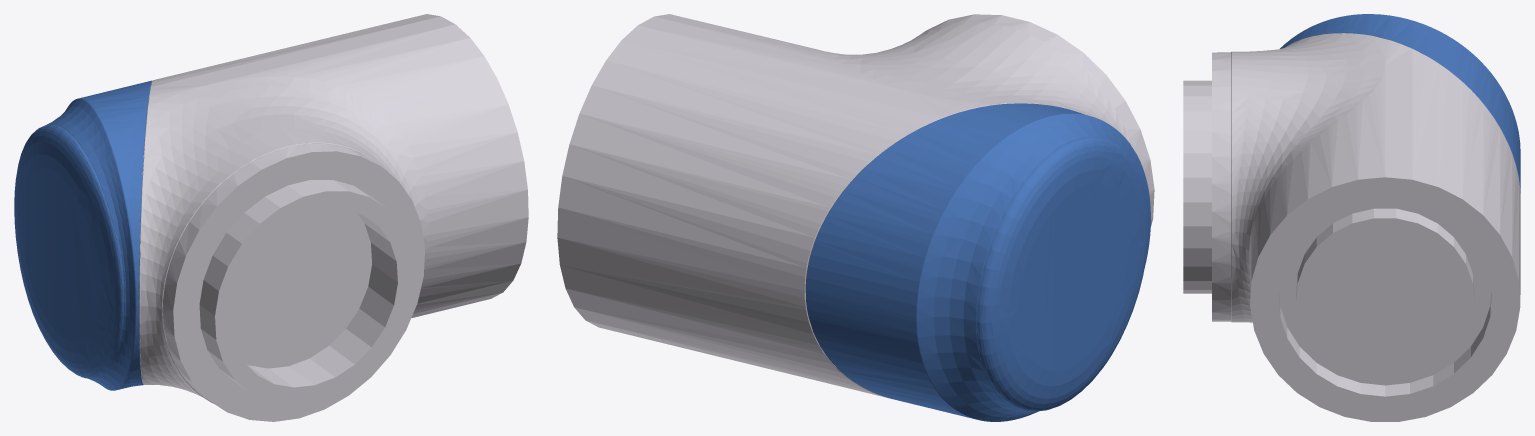
The picture shows the model from 3 angles, left to right: view 1: azimuth 30°, elevation 25°; view 2: azimuth 150°, elevation 25°; view 3: azimuth 270°, elevation 25°; orthographic projection. The views are drawn at different scales.
Visible parts, largest first — view 1: link4; view 2: link4; view 3: link4.
Boxes of the visible parts, left/top/right/bottom form: link4: left=14, top=14, right=528, bottom=421; link4: left=557, top=14, right=1154, bottom=421; link4: left=1183, top=14, right=1520, bottom=421.
Size of the model in its own units: 0.1346 by 0.1059 by 0.085.
